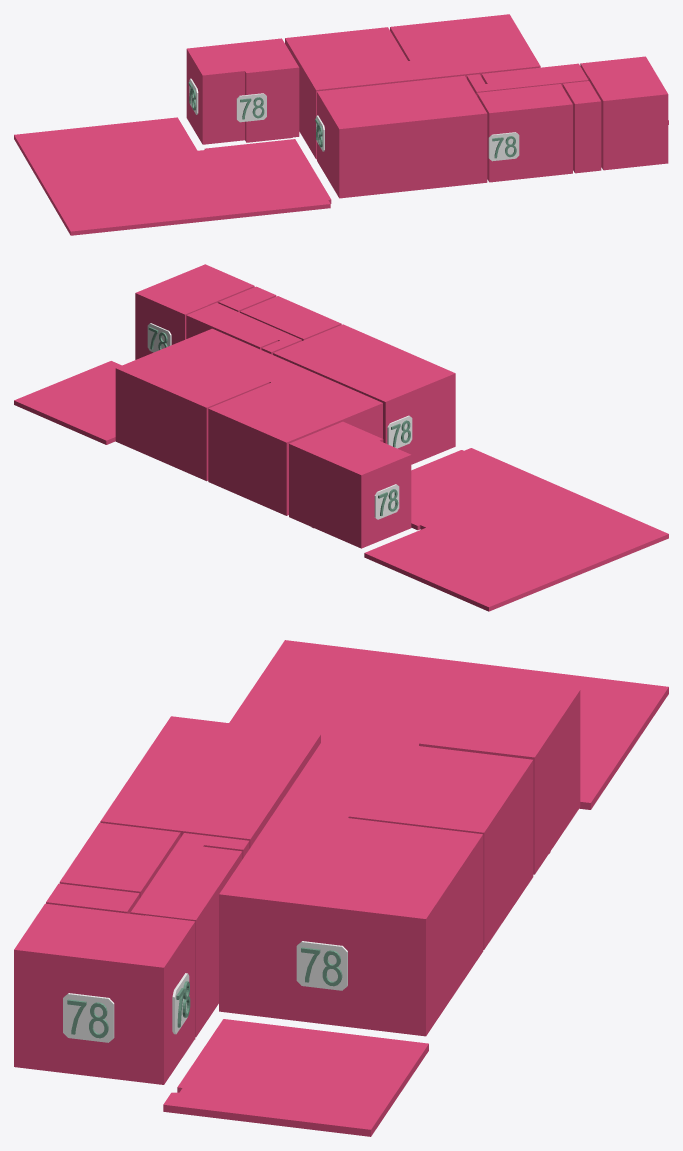
3 renders of one model, top to bottom at view 1: azimuth 30°, elevation 25°; view 2: azimuth 150°, elevation 25°; view 3: azimuth 270°, elevation 25°, orthographic. The views are drawn at different scales.
Parts seen in each view (by area): view 1: g_8, g_1, g_0, g_2, g_6, g_4, g_7, g_5, g_3, g_12, g_21; view 2: g_8, g_7, g_6, g_0, g_1, g_2, g_9, g_3, g_4, g_5, g_18; view 3: g_7, g_2, g_8, g_6, g_9, g_1, g_0, g_3, g_4, g_5, g_24, g_15.
Part boxes in pixels (<box>): g_8: <box>14,117,331,235</box>; g_1: <box>317,75,487,198</box>; g_0: <box>186,38,299,144</box>; g_2: <box>580,56,668,170</box>; g_6: <box>285,27,420,159</box>; g_4: <box>477,84,572,182</box>; g_7: <box>390,14,540,80</box>; g_5: <box>562,81,601,173</box>; g_3: <box>467,63,588,95</box>; g_12: <box>488,132,519,161</box>; g_21: <box>236,93,266,122</box>; g_8: <box>364,448,668,611</box>; g_7: <box>115,328,302,481</box>; g_6: <box>208,368,382,515</box>; g_0: <box>289,421,411,548</box>; g_1: <box>273,324,455,464</box>; g_2: <box>135,264,254,359</box>; g_9: <box>14,361,121,444</box>; g_3: <box>186,303,301,354</box>; g_4: <box>240,296,341,340</box>; g_5: <box>218,286,276,312</box>; g_18: <box>374,484,399,519</box>; g_7: <box>219,809,483,1036</box>; g_2: <box>14,903,195,1084</box>; g_8: <box>229,640,668,809</box>; g_6: <box>276,735,533,949</box>; g_9: <box>163,1019,428,1136</box>; g_1: <box>100,716,320,848</box>; g_0: <box>419,677,580,874</box>; g_3: <box>130,833,249,1037</box>; g_4: <box>59,822,180,898</box>; g_5: <box>46,883,139,913</box>; g_24: <box>63,993,114,1042</box>; g_15: <box>296,941,347,990</box>.
Size of the model in its own units: 22.25 by 2.65 by 12.58.
